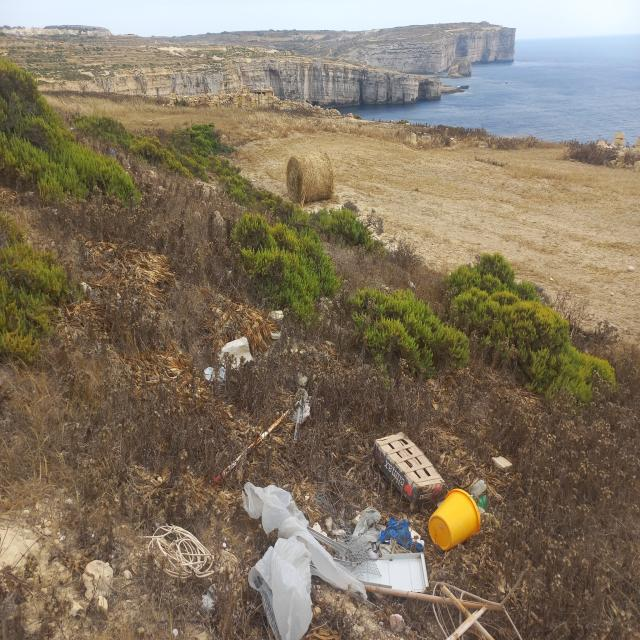Bottle: (470, 480, 487, 495), (473, 496, 488, 507)
Other litter: (308, 490, 428, 592), (215, 386, 311, 483), (371, 430, 446, 513)
Other plastic: (138, 522, 217, 580), (428, 488, 481, 551), (198, 583, 229, 616), (202, 367, 228, 386)
Paper: (215, 335, 254, 372)
Plastic bag - wrapper: (241, 482, 367, 640)
Styrofoam piece: (270, 310, 285, 321), (269, 330, 283, 339)
